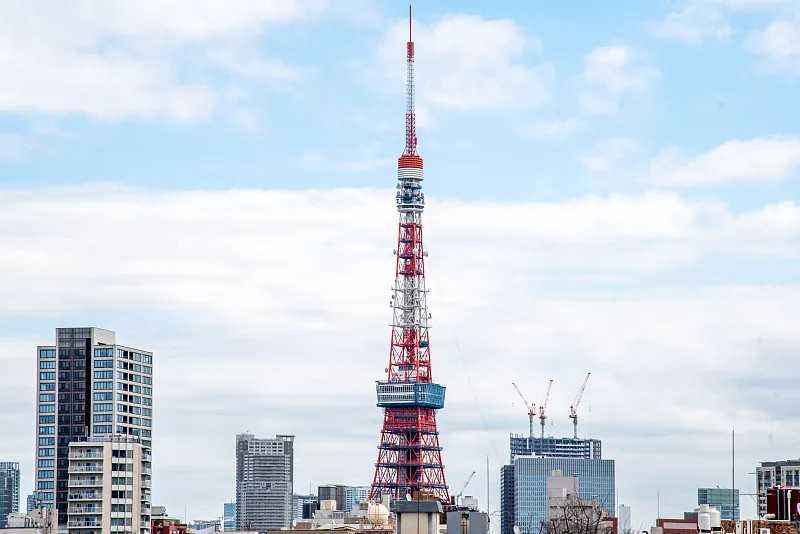Tokyo: (369, 3, 452, 508)
